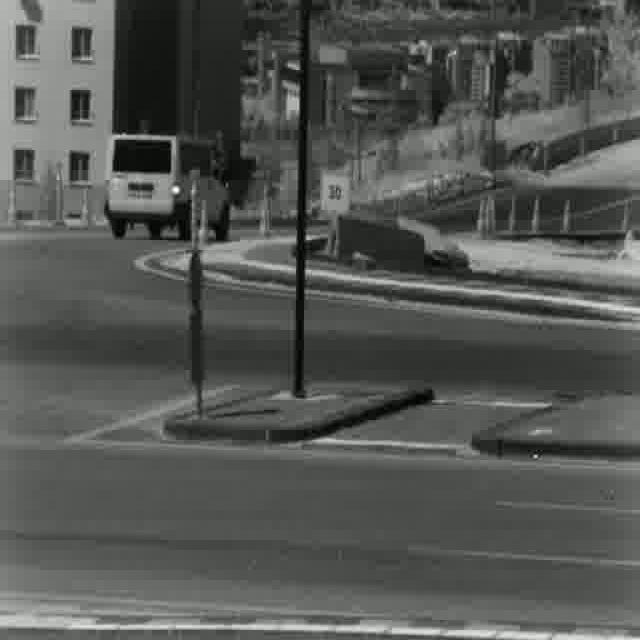Car: (108, 131, 230, 241)
